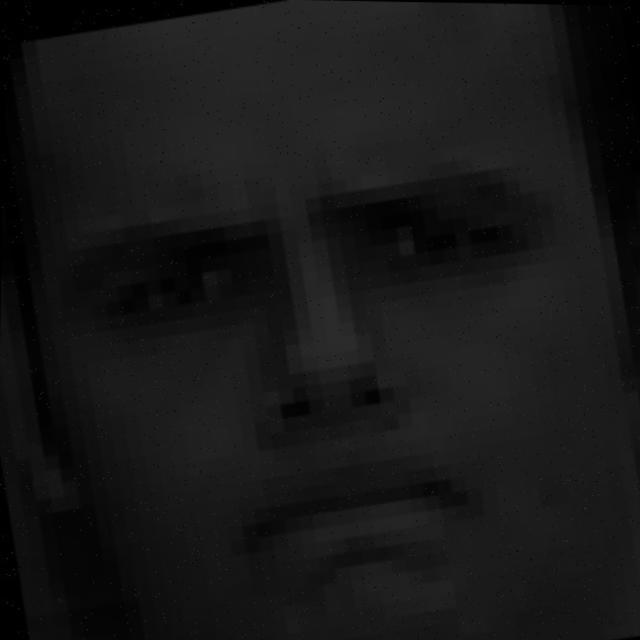Disgust: (35, 115, 603, 603)
